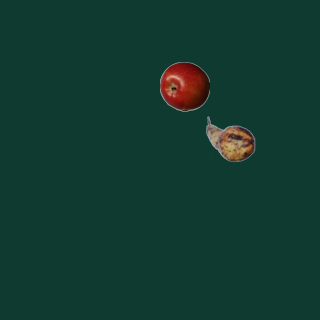Apple Braeburn: (159, 61, 209, 111)
Pear Abate: (205, 114, 255, 164)
